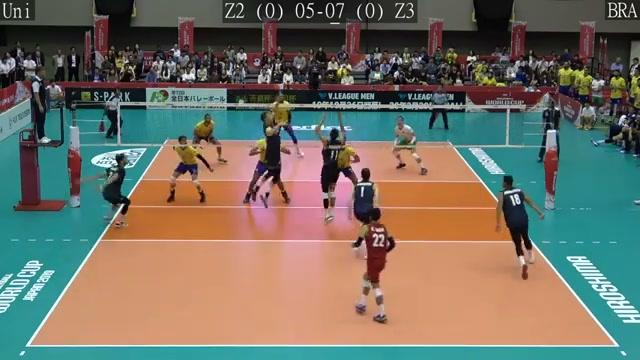ball: (334, 67, 350, 79)
